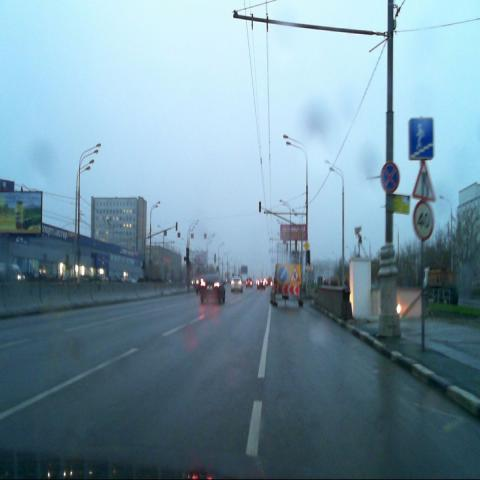1_20_2: (412, 161, 434, 200)
